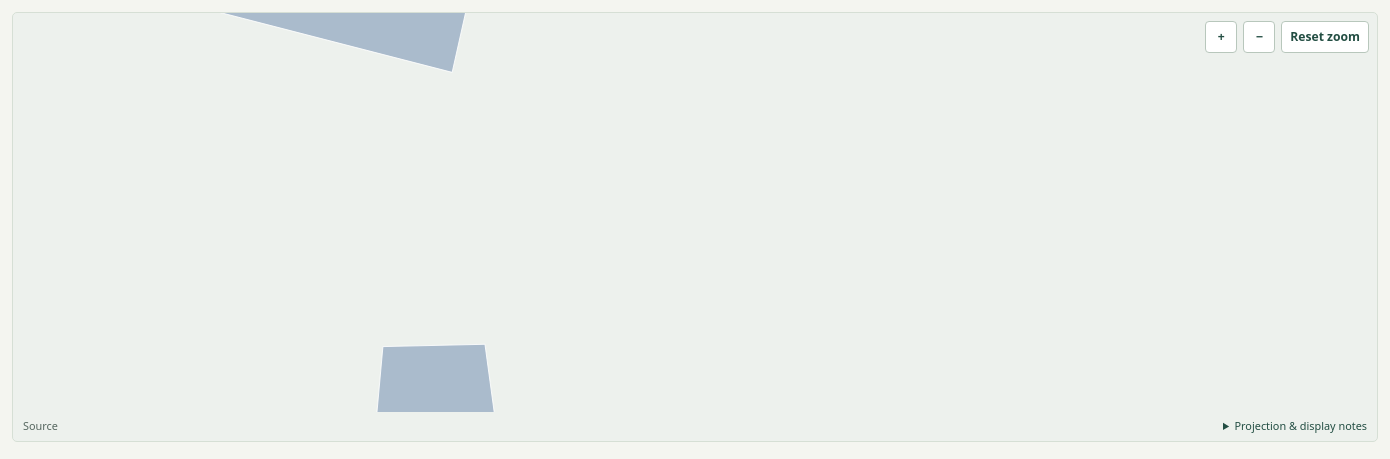
Test: generic United States mapping › accumulates wheel bursts and applies discrete controls to the latest queued camera
The image size is (1390, 459).
Earlier steps of the test are not shown.
Later steps or results of the test are not shown.
Click the button "Reset zoom": [1325, 37] box [1281, 21, 1369, 53]
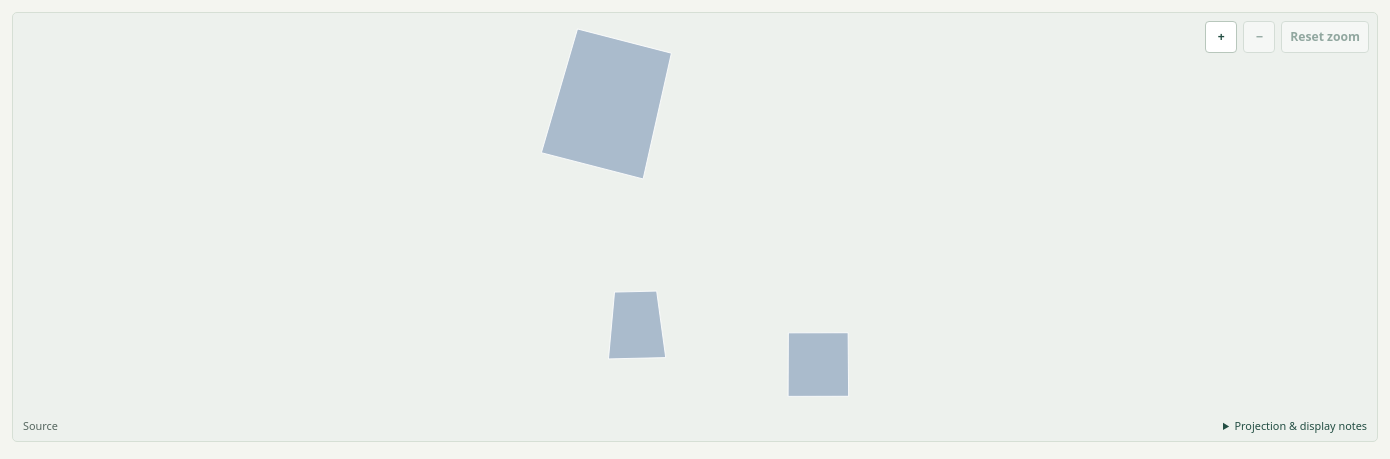
Expected: the icon named "Queued camera" has attribute viewBox="0 0 960 600"
